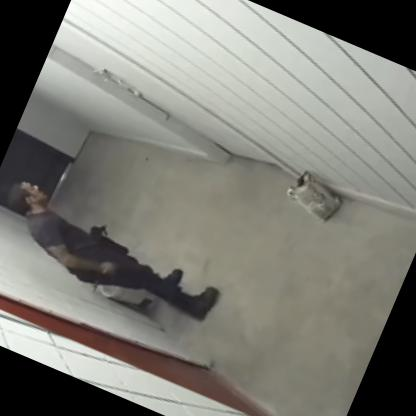Human Body: (0, 169, 236, 339)
